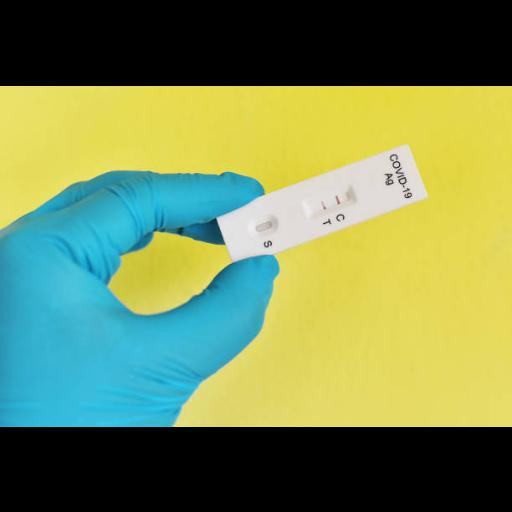Pos: (215, 145, 427, 268)
